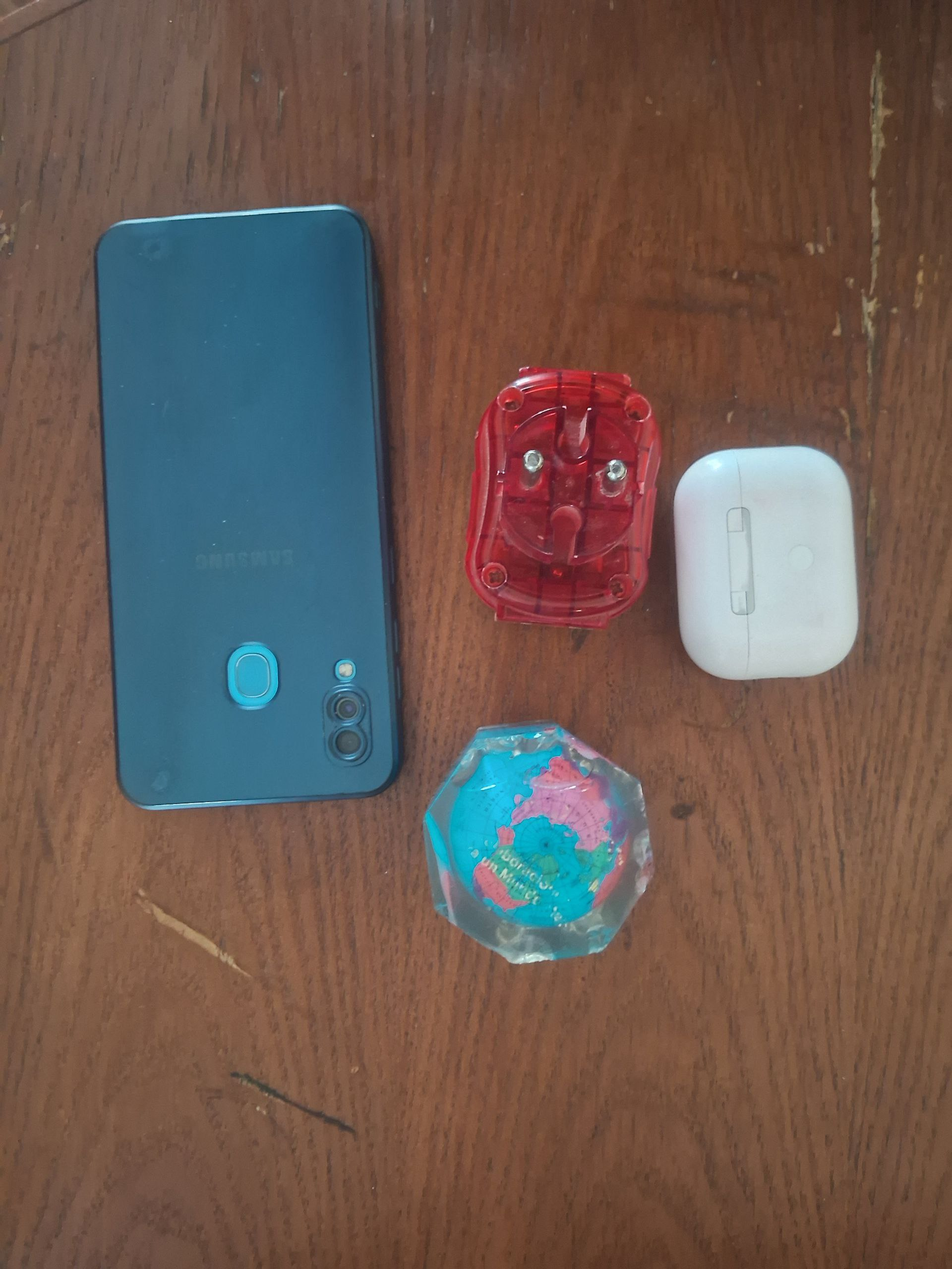Air_pod: (670, 441, 868, 686)
Multi_adapter: (458, 350, 664, 646)
Smart_phone: (82, 198, 415, 819)
world_globe: (420, 713, 661, 972)
